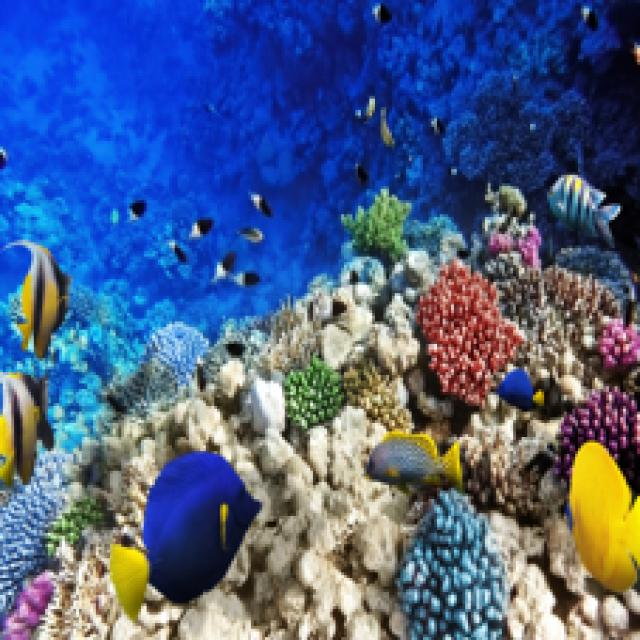Bleached: (131, 399, 410, 638), (489, 511, 638, 638)
Healthy: (486, 255, 638, 390), (399, 492, 503, 638), (418, 260, 523, 404), (1, 458, 71, 618), (108, 322, 207, 413), (556, 390, 638, 489), (342, 190, 410, 263), (345, 359, 410, 430), (289, 356, 339, 427), (1, 573, 52, 638)
